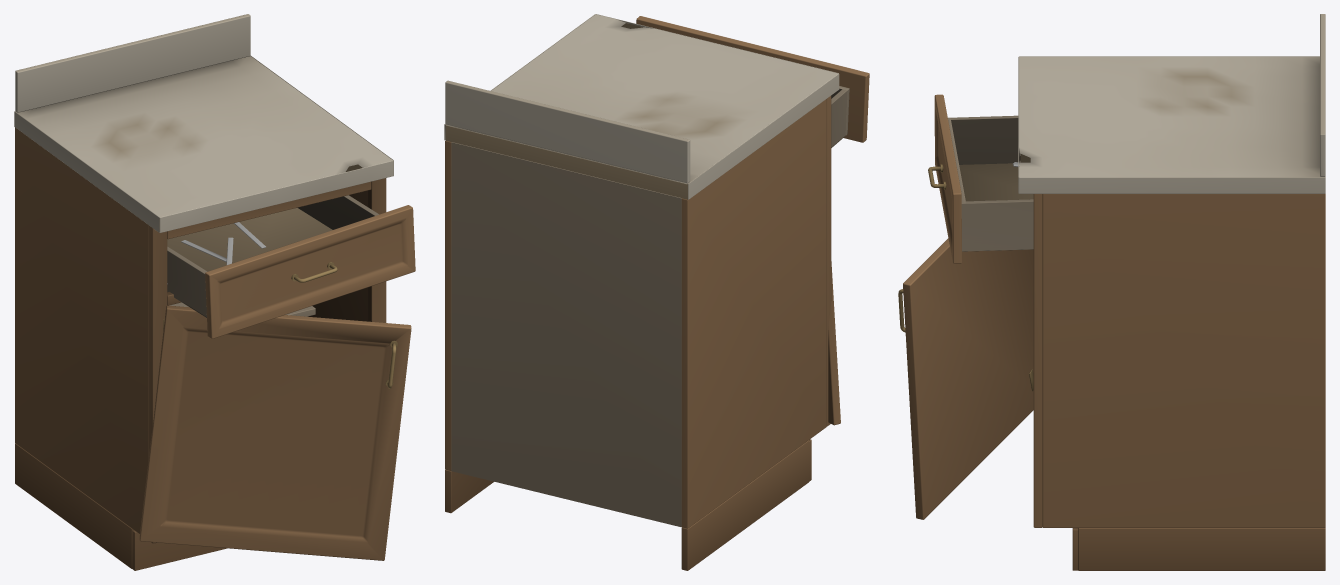
The model's file is kitchen_base_cab_60.glb.
The picture shows the model from 3 angles, left to right: view 1: azimuth 30°, elevation 25°; view 2: azimuth 150°, elevation 25°; view 3: azimuth 270°, elevation 25°; orthographic projection. The views are drawn at different scales.
Parts seen in each view (by area): view 1: kitchen_base_cab_60; view 2: kitchen_base_cab_60; view 3: kitchen_base_cab_60.
Part boxes in pixels (x1,y1,x2,y2): kitchen_base_cab_60: [14, 14, 415, 570]; kitchen_base_cab_60: [444, 14, 869, 570]; kitchen_base_cab_60: [898, 14, 1325, 570].
Bounding box in the file's own units: 0.6296 × 1.01 × 0.8984.
